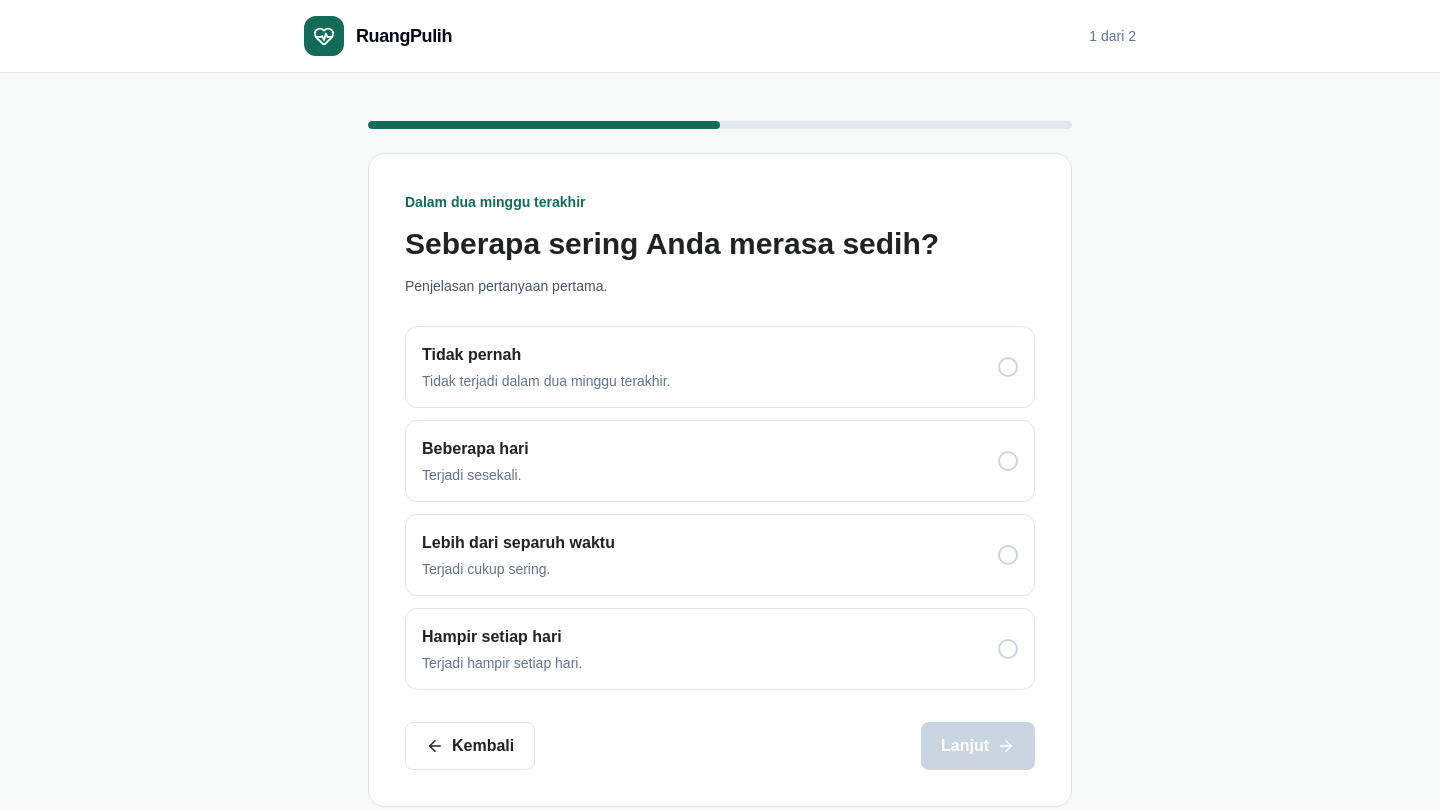
Questionnaire › berpindah ke pertanyaan berikutnya
What coordinates should you click on to do the following:
click the radio button labelled "Beberapa hari Terjadi sesekali."
I would click on:
 (475, 448)
Its box is [405,420,1035,502].
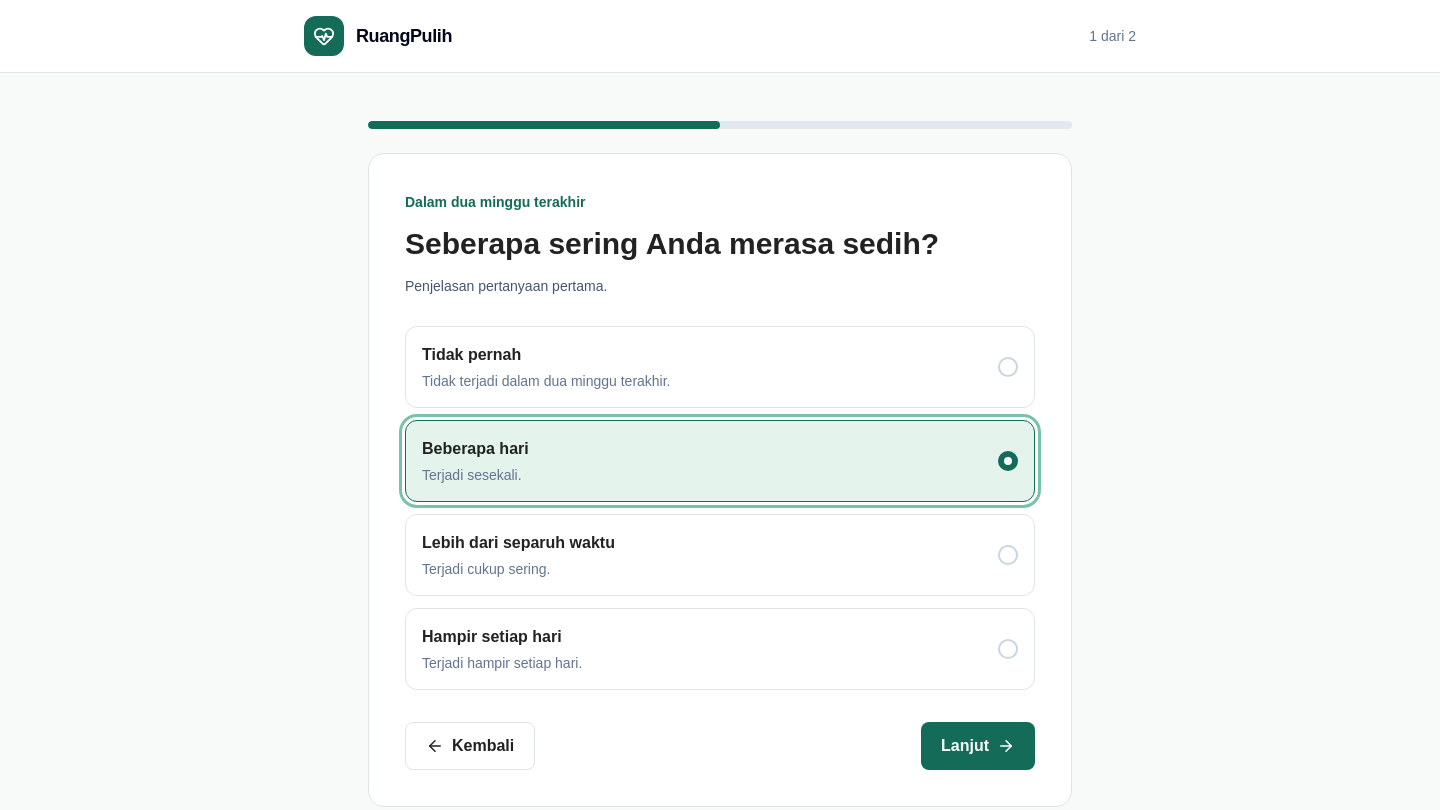
What coordinates should you click on to do the following:
click the button "Lanjut"
I would click on:
 (978, 746)
Its box is [921,722,1035,770].
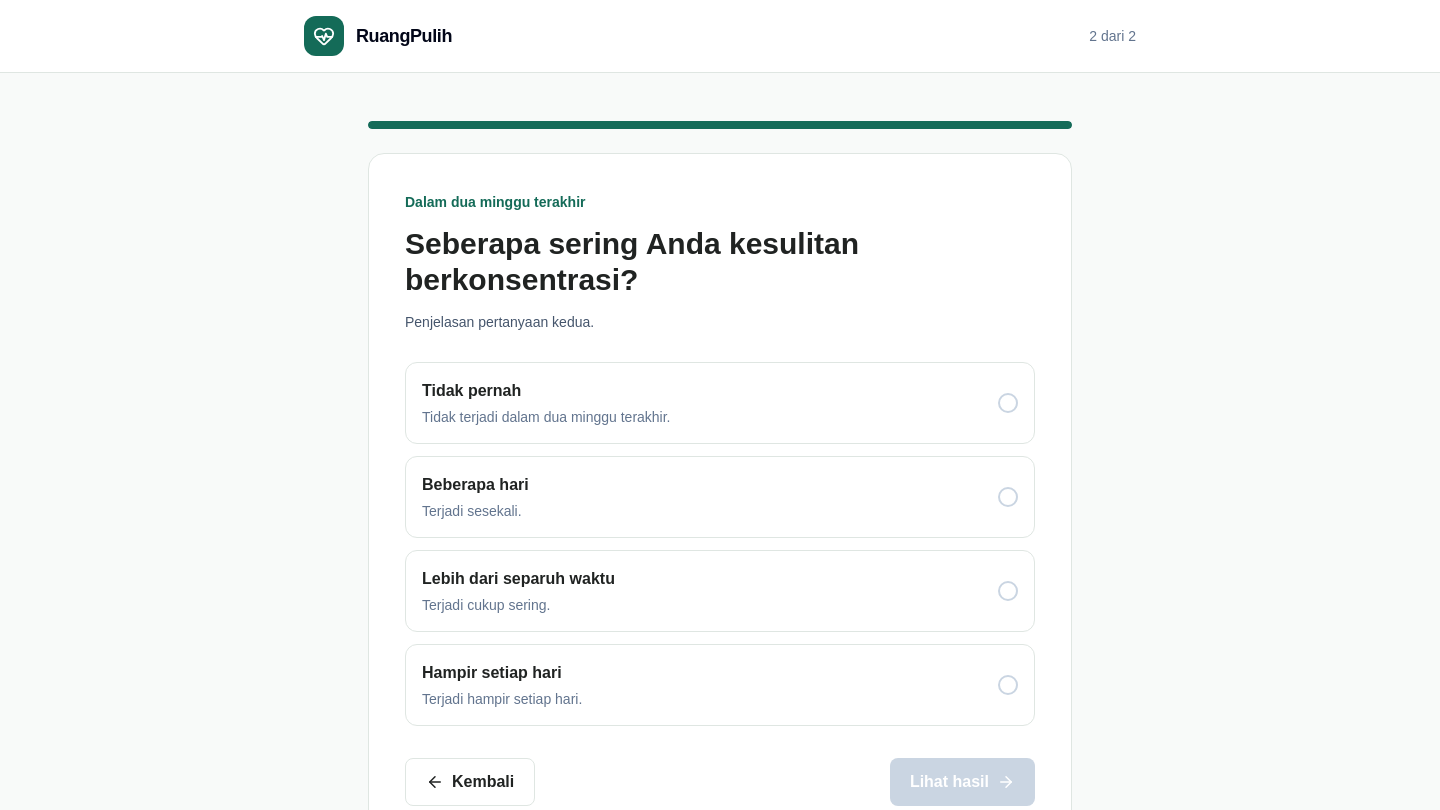
Now the heading "Seberapa sering Anda kesulitan berkonsentrasi?" is shown, box [405,227,859,296]
Now the text "2 dari 2" is shown, box [1089,26,1136,46]
